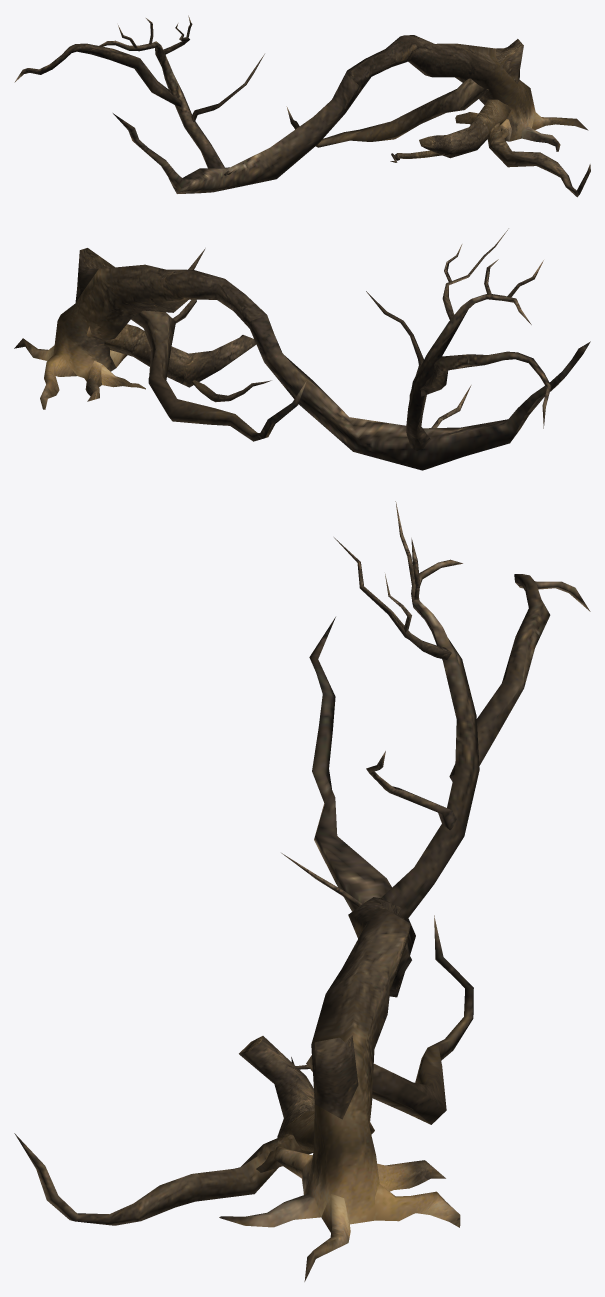
Rendered from SC_tamalagebi_13.FBX.
3 renders of one model, top to bottom at view 1: azimuth 30°, elevation 25°; view 2: azimuth 150°, elevation 25°; view 3: azimuth 270°, elevation 25°, orthographic. The views are drawn at different scales.
Parts seen in each view (by area): view 1: SC_tamalagebi_13; view 2: SC_tamalagebi_13; view 3: SC_tamalagebi_13.
Boxes of the visible parts, left/top/right/bottom form: SC_tamalagebi_13: left=14, top=15, right=590, bottom=197; SC_tamalagebi_13: left=14, top=228, right=590, bottom=470; SC_tamalagebi_13: left=14, top=501, right=590, bottom=1281.
Bounding box in the file's own units: 957 × 377 × 510.
